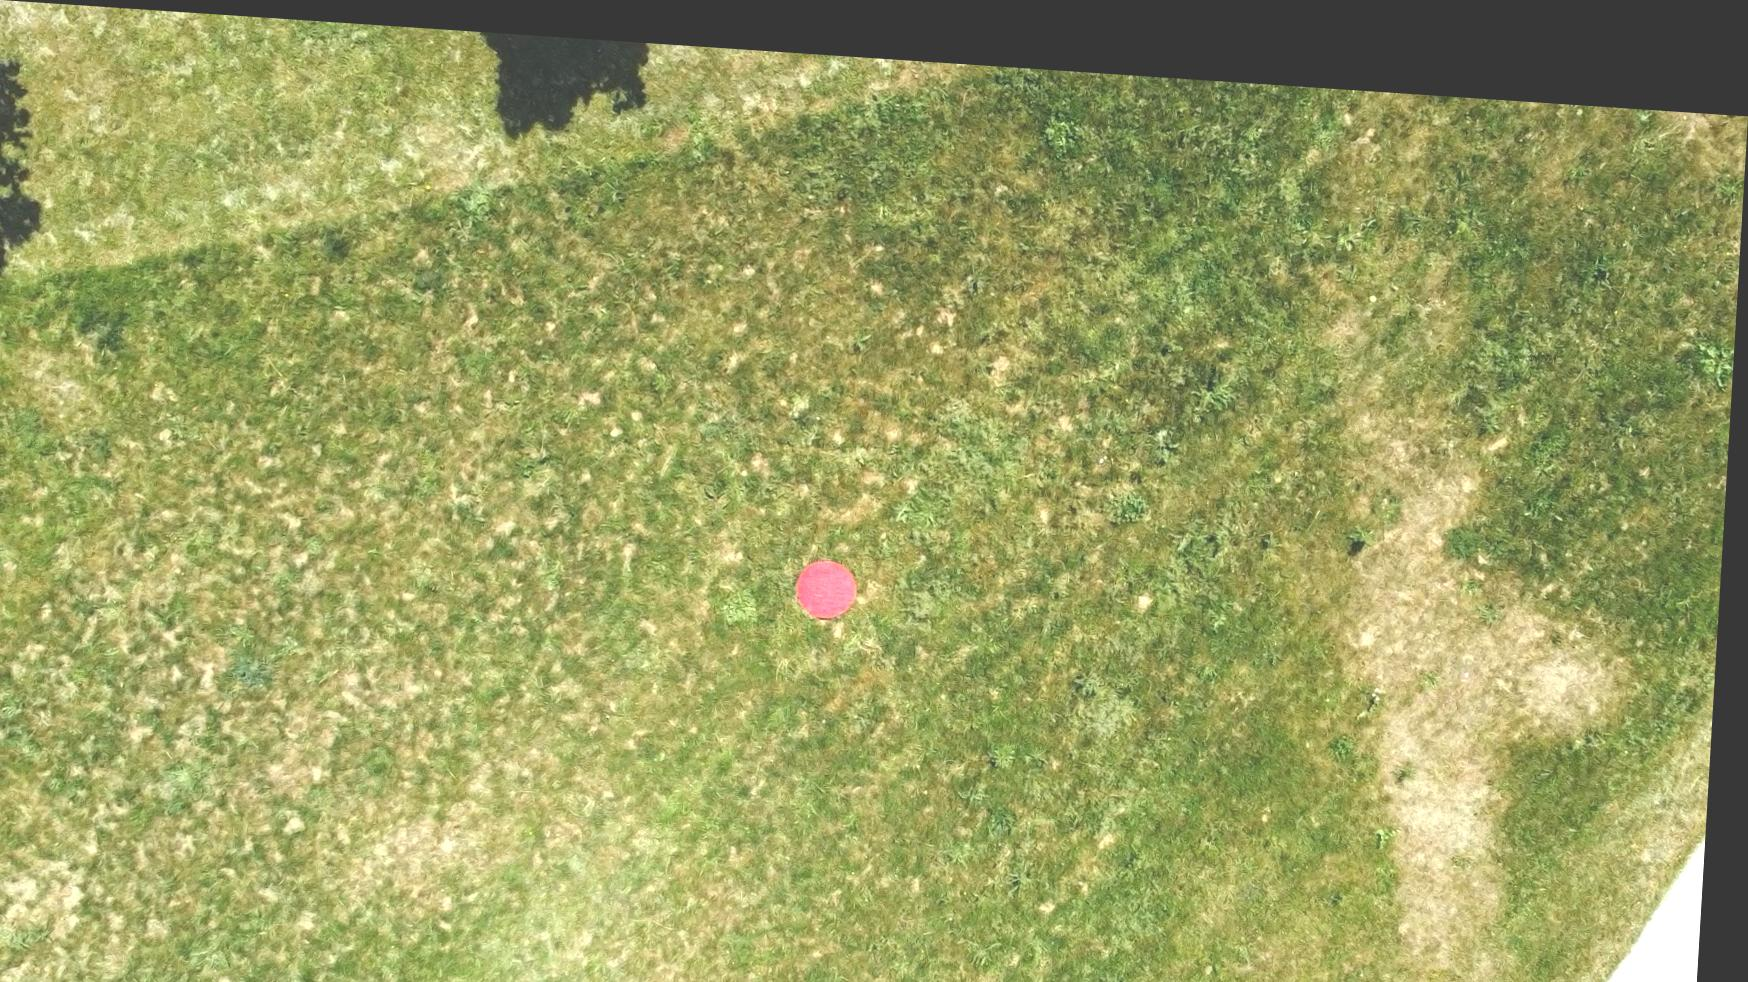Red: (796, 541, 870, 613)
